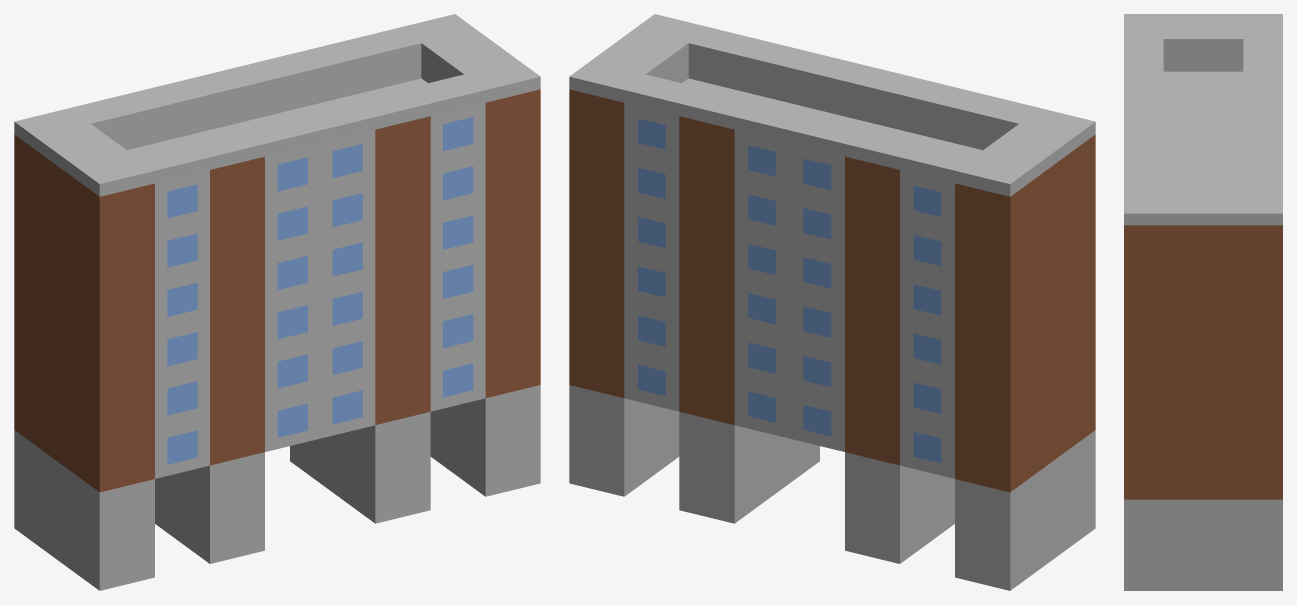
Rendered from study1.fbx.
The picture shows the model from 3 angles, left to right: view 1: azimuth 30°, elevation 25°; view 2: azimuth 150°, elevation 25°; view 3: azimuth 270°, elevation 25°; orthographic projection. The views are drawn at different scales.
Parts seen in each view (by area): view 1: Cube; view 2: Cube; view 3: Cube.
Boxes of the visible parts, box(x1,y1,x2,y2) form: Cube: box(14, 14, 540, 590); Cube: box(569, 14, 1095, 590); Cube: box(1124, 14, 1282, 590).
Size of the model in its own units: 841 by 741 by 283.
